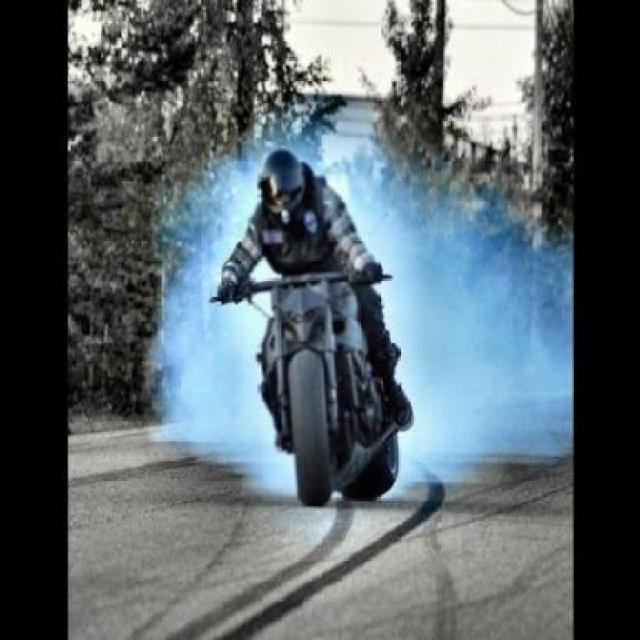helmet: (246, 146, 316, 228)
motorcycle: (199, 135, 447, 516)
